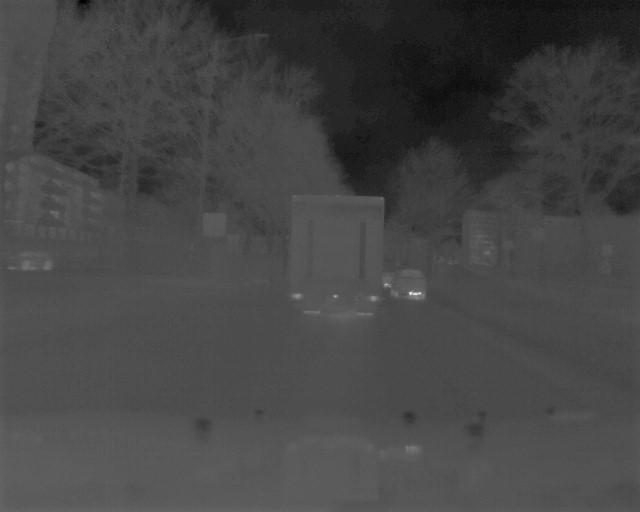car: (391, 265, 428, 300), (6, 250, 53, 273)
